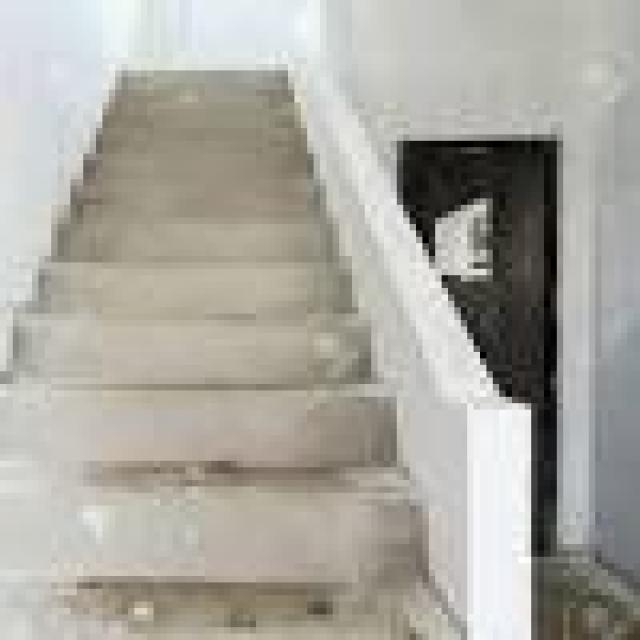upstair: (1, 58, 455, 621)
